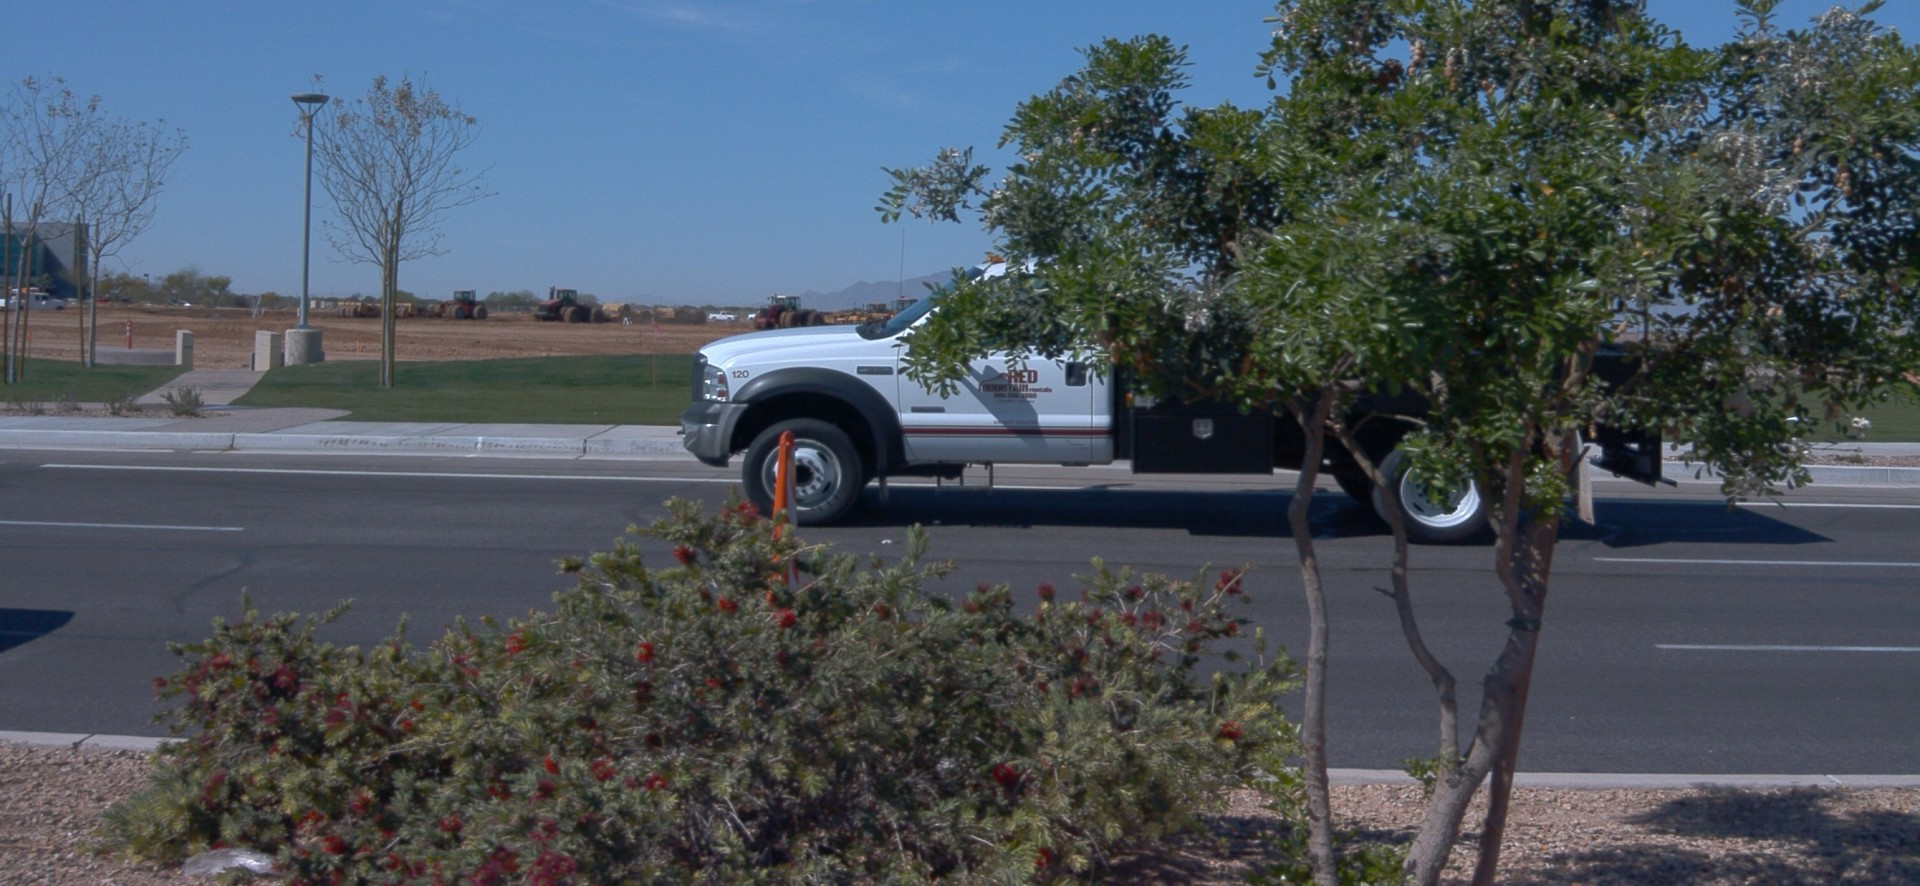TYPE_VEHICLE: (676, 250, 1685, 548), (751, 292, 820, 332), (534, 285, 603, 324), (429, 285, 490, 324), (826, 301, 887, 328), (0, 293, 63, 314), (336, 302, 416, 317), (706, 309, 741, 323), (744, 316, 755, 321)
